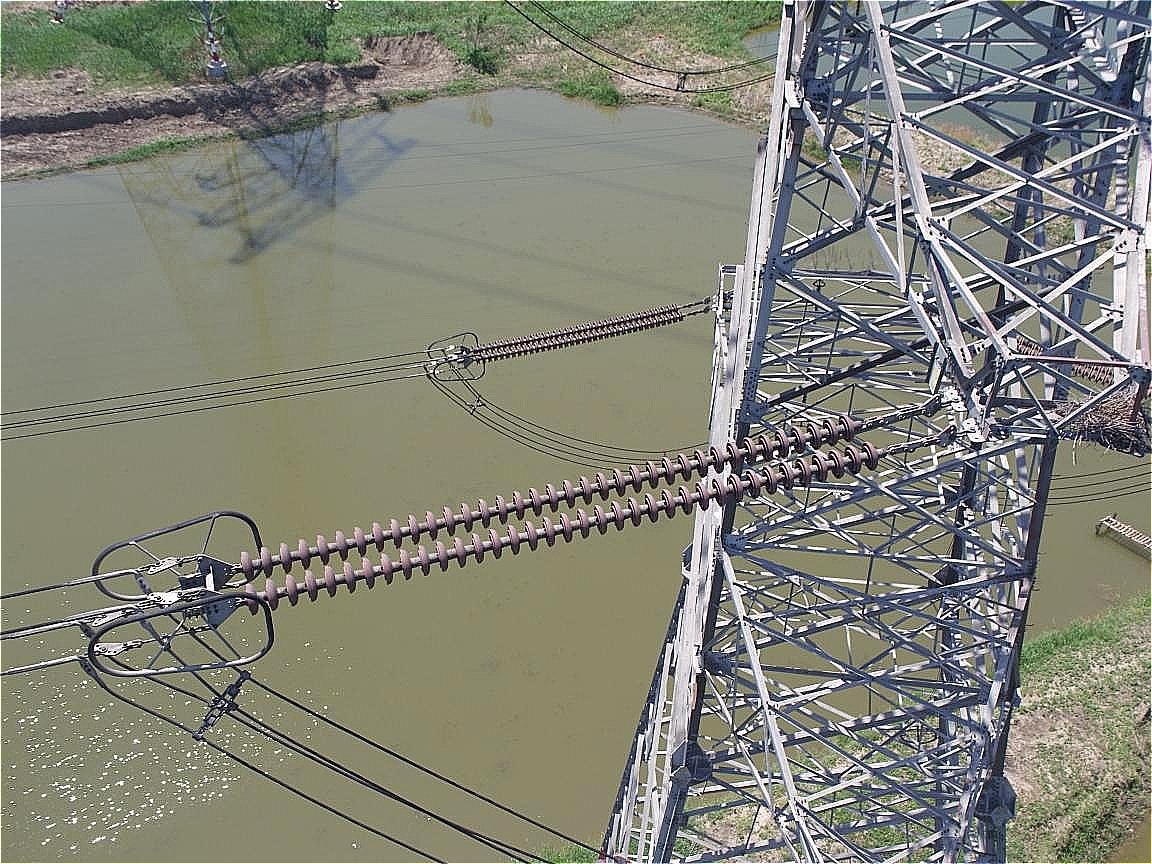insultor1: (227, 409, 894, 613), (455, 295, 690, 366)
